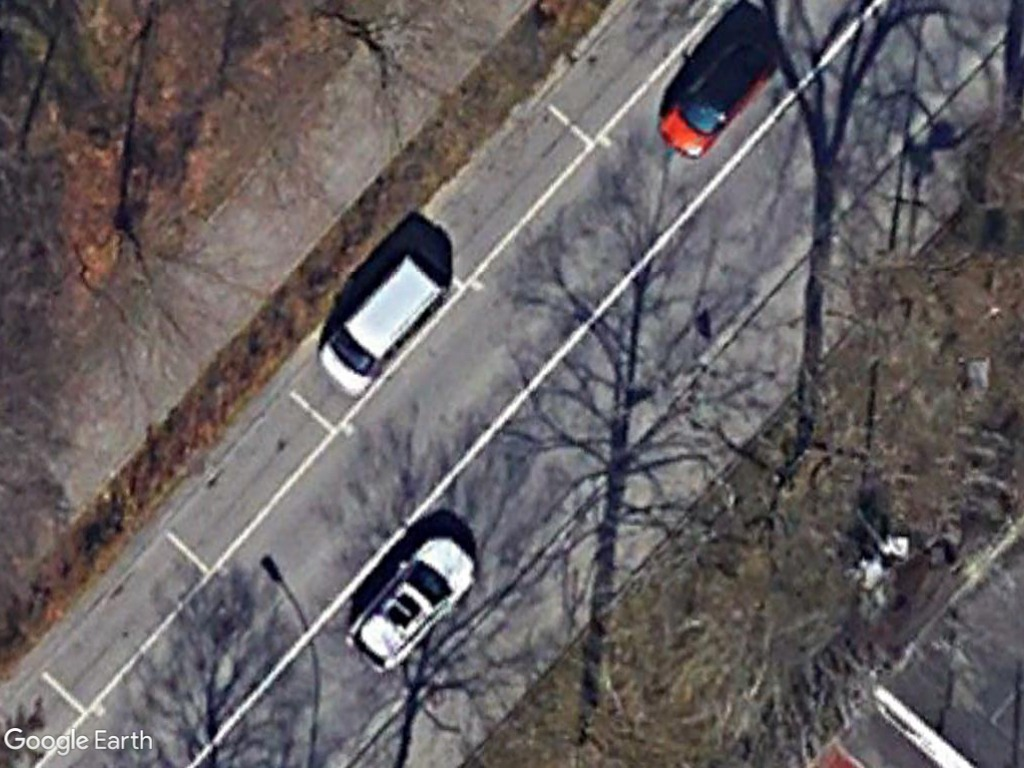car: (347, 532, 481, 672), (651, 33, 787, 159)
van: (313, 249, 446, 399)
